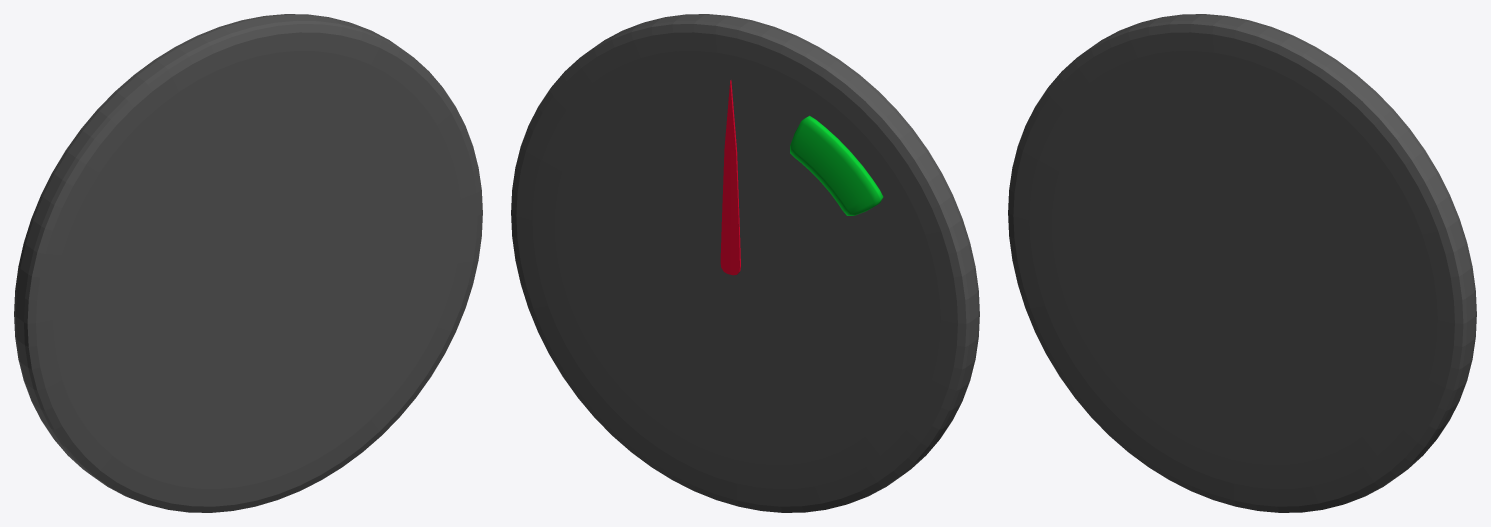
Rendered from Parameter_QTEX_ZUP.fbx.
3 renders of one model, left to right at view 1: azimuth 30°, elevation 25°; view 2: azimuth 150°, elevation 25°; view 3: azimuth 330°, elevation 25°, orthographic.
Parts seen in each view (by area): view 1: Tempat; view 2: Tempat, Safe_zone, Jarum; view 3: Tempat.
Boxes of the visible parts, x1,y1,x2,y2 form: Tempat: [14, 14, 482, 512]; Tempat: [511, 14, 979, 512]; Safe_zone: [790, 115, 883, 215]; Jarum: [720, 80, 740, 275]; Tempat: [1008, 14, 1476, 512].
Size of the model in its own units: 0.1822 by 1.99 by 1.99.
